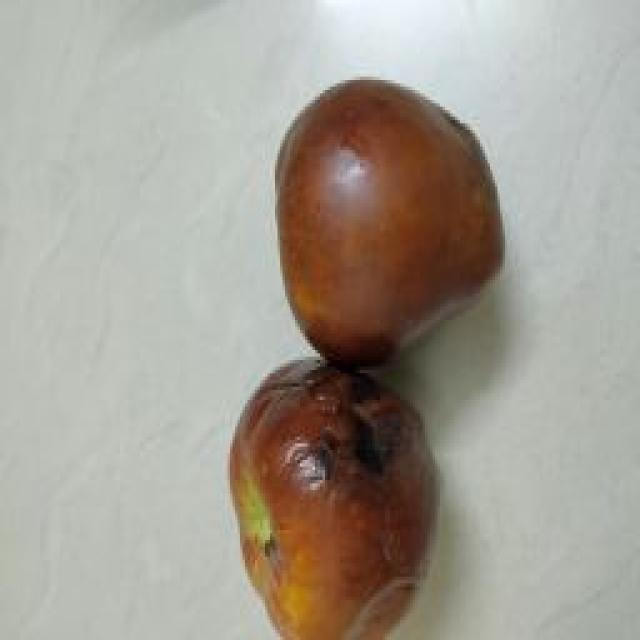Bad_Apple: (230, 360, 438, 638)
